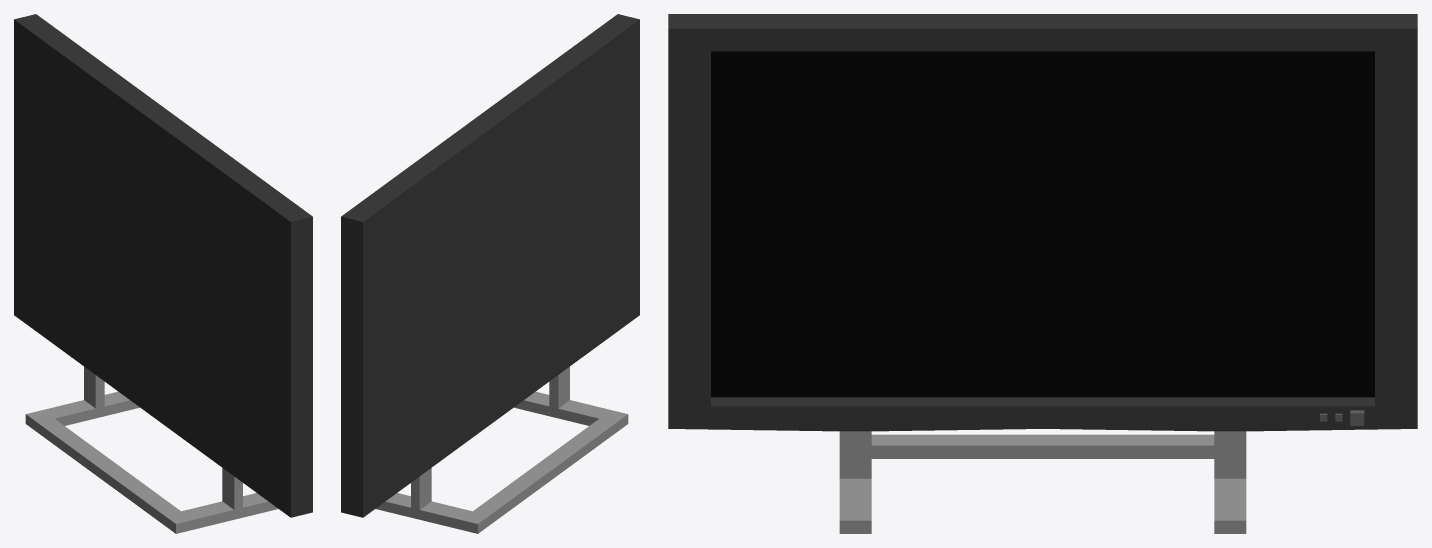
The model's file is FLatScreen.glb.
3 views of the same model, side by side, from view 1: azimuth 30°, elevation 25°; view 2: azimuth 150°, elevation 25°; view 3: azimuth 270°, elevation 25° (orthographic). The views are drawn at different scales.
Visible parts, largest first — view 1: FlatScreen-col; view 2: FlatScreen-col; view 3: FlatScreen-col.
Part boxes in pixels (x1,y1,x2,y2): FlatScreen-col: (14,14,312,533); FlatScreen-col: (341,14,639,533); FlatScreen-col: (668,14,1417,533).
Bounding box in the file's own units: 2.86 × 7.24 × 10.5.
1 material, 1 textured.
